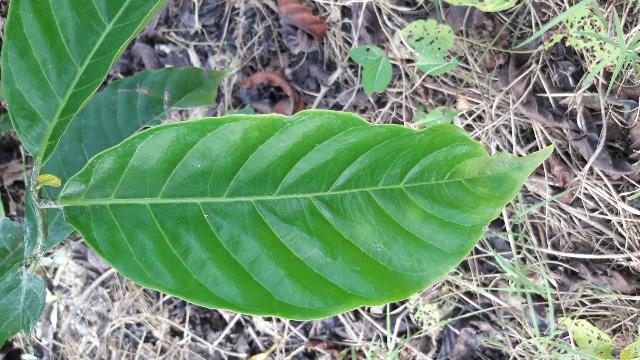healthy: (59, 116, 528, 319)
